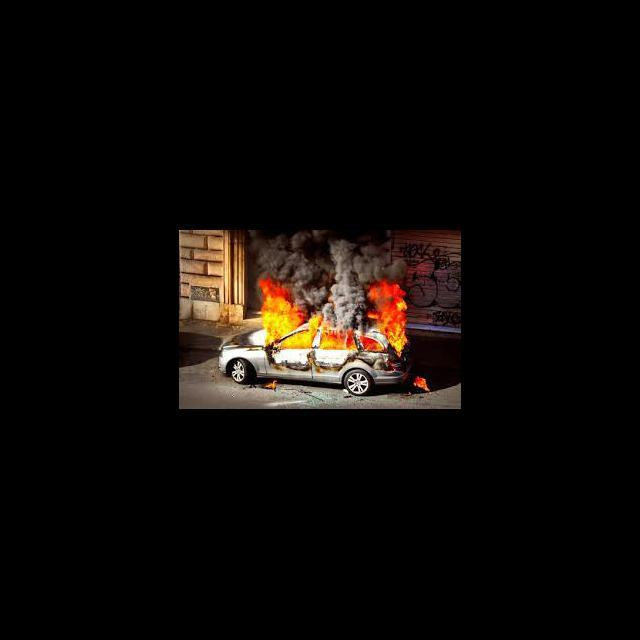Fire: (366, 282, 407, 356), (256, 280, 294, 348), (327, 328, 382, 353), (294, 314, 326, 349), (412, 374, 431, 394), (264, 380, 282, 390)
Smoke: (254, 230, 401, 278), (296, 280, 364, 312)
